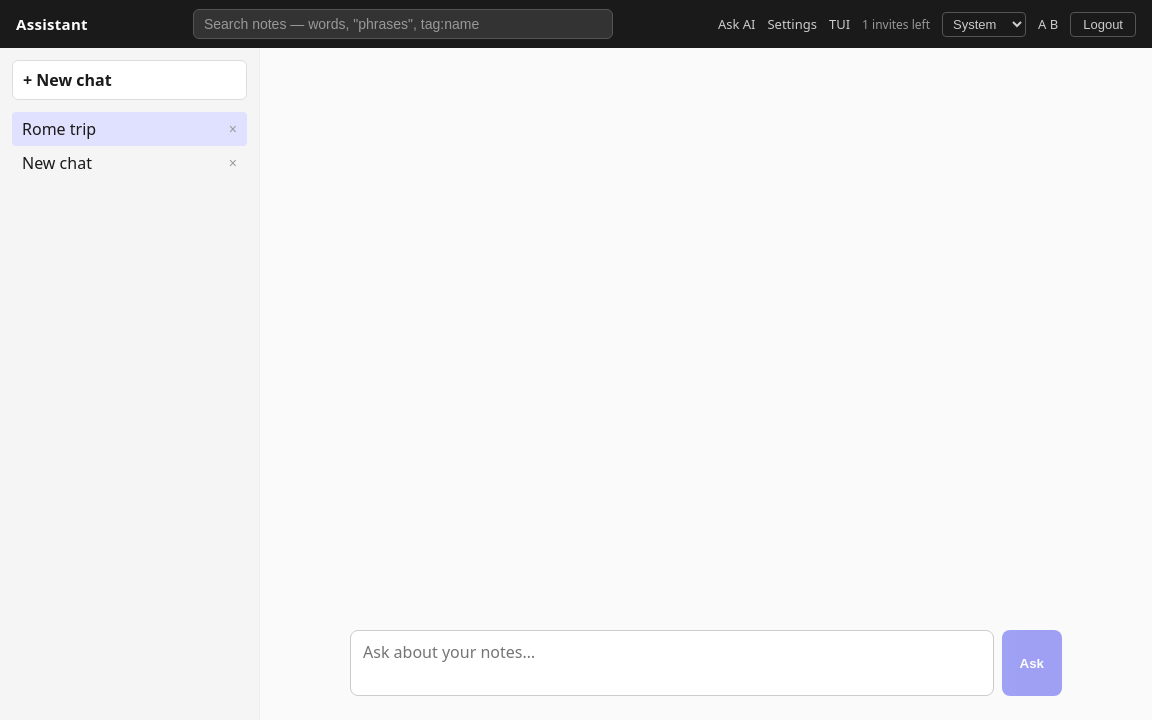
Test: AskPage asking › shows errors streamed by the server
This screenshot has width=1152, height=720.
Type "Hi" into the text box named "Question" at x=672, y=663, box [350, 630, 994, 696]
Then press Enter
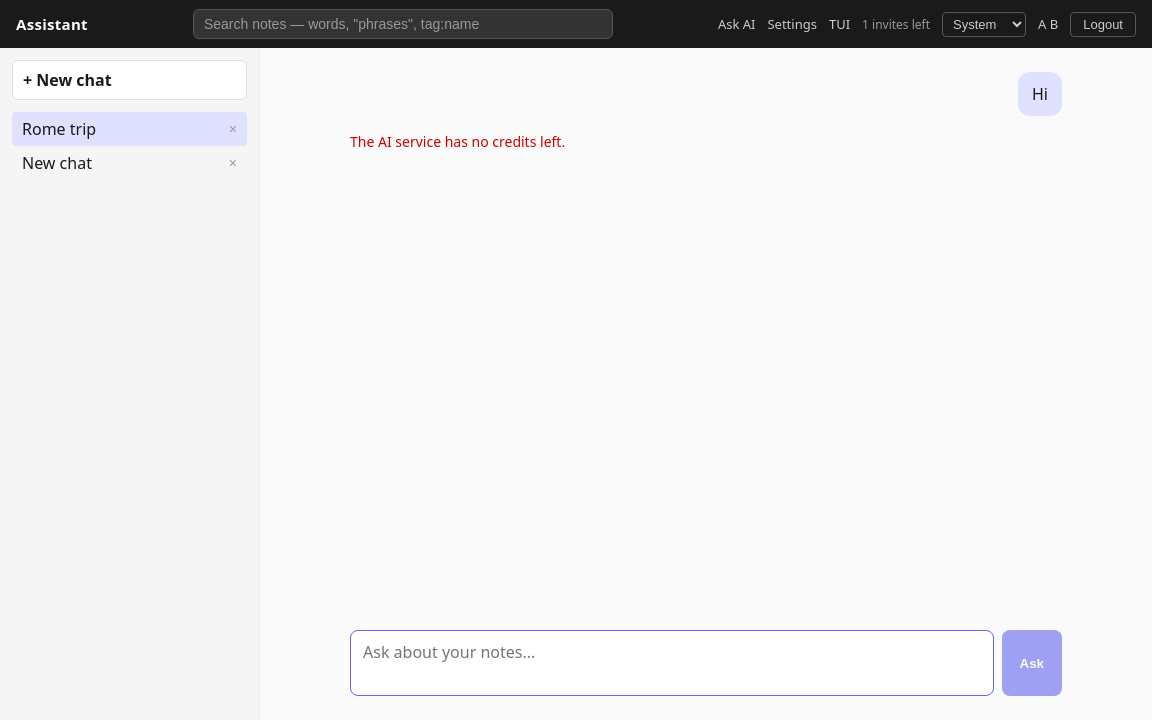
Check: the button "Ask" is shown, box [1002, 630, 1062, 696]
Check: the text "The AI service has no credits left." is shown, box [350, 132, 565, 151]
